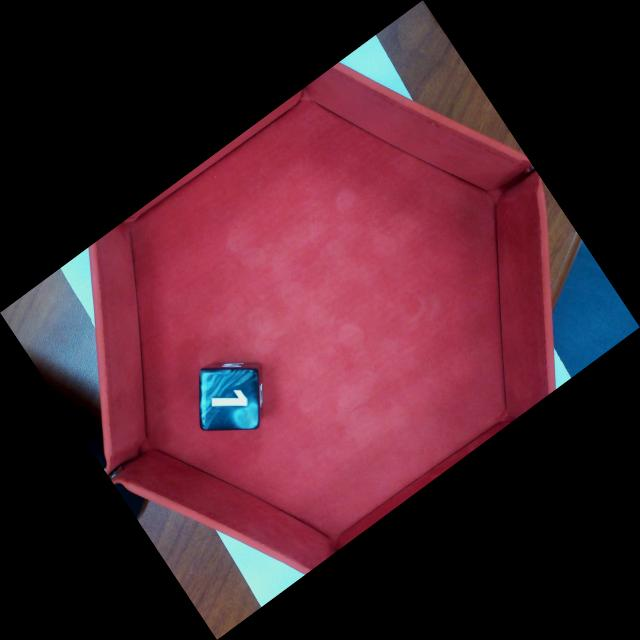dice: (206, 373, 257, 428)
